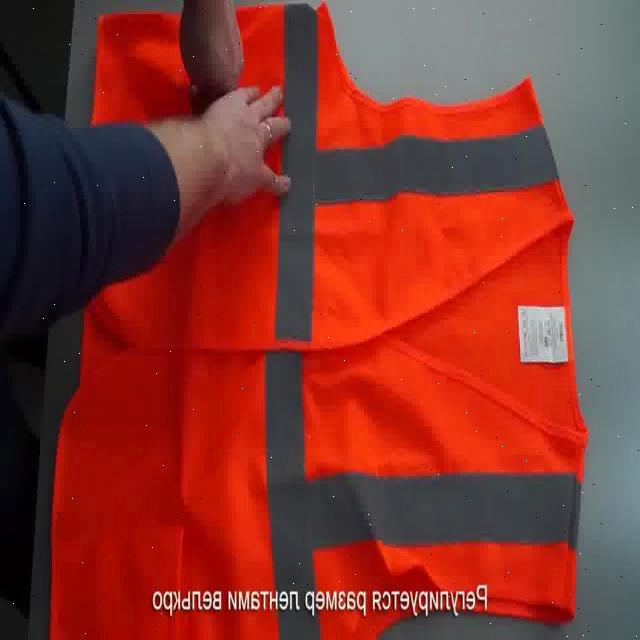Vest: (110, 33, 574, 629)
